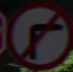Don't turn right: (11, 7, 62, 62)
